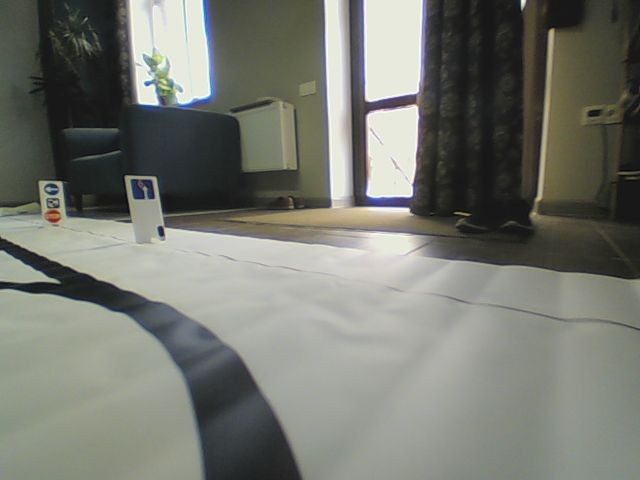priority_movement: (129, 177, 156, 201)
